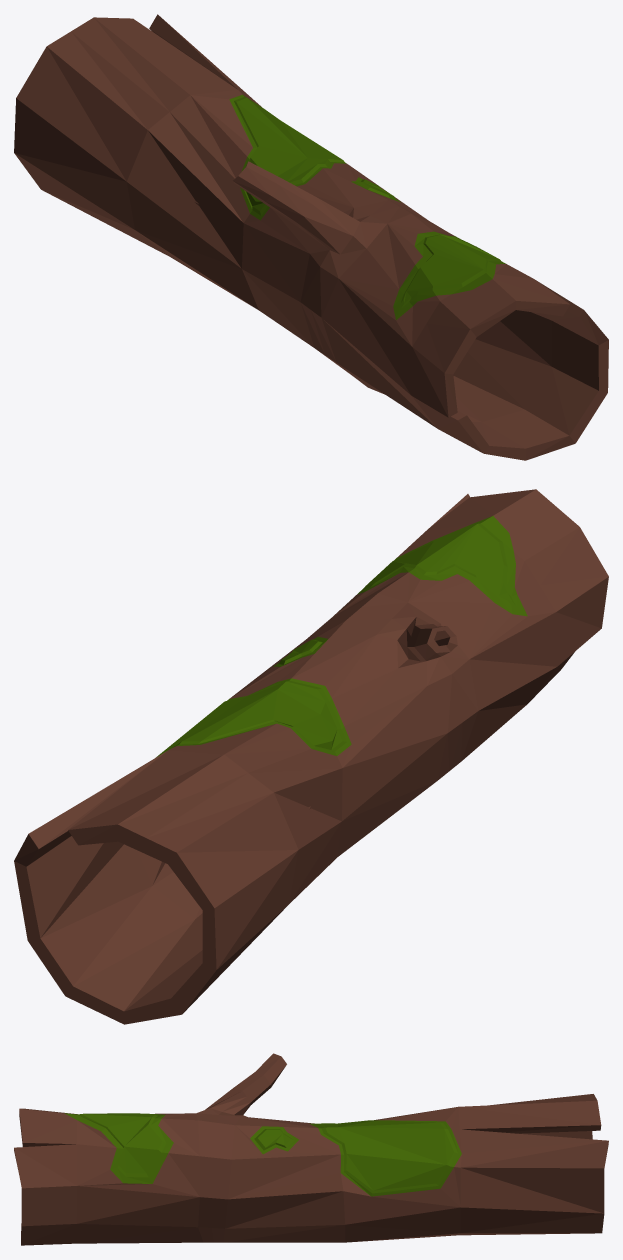
Rendered from Mossy_Log.fbx.
3 renders of one model, top to bottom at view 1: azimuth 30°, elevation 25°; view 2: azimuth 150°, elevation 25°; view 3: azimuth 270°, elevation 25°, orthographic. The views are drawn at different scales.
Parts seen in each view (by area): view 1: Log_Moss_01; view 2: Log_Moss_01; view 3: Log_Moss_01.
Boxes of the visible parts, box(x1,y1,x2,y2) form: Log_Moss_01: box(14, 14, 608, 460); Log_Moss_01: box(14, 489, 608, 1024); Log_Moss_01: box(14, 1053, 608, 1245).
Bounding box in the file's own units: 2.42 × 2.35 × 8.41.
1 material, 1 textured.
